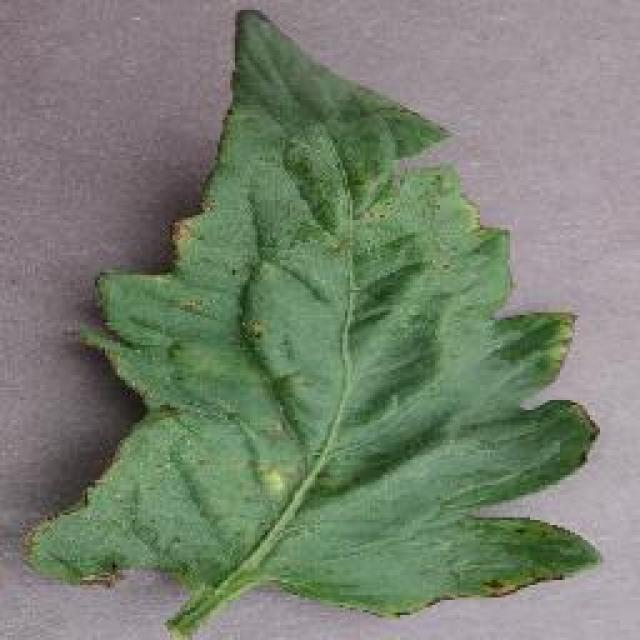bacterial spot: (25, 11, 613, 624)
